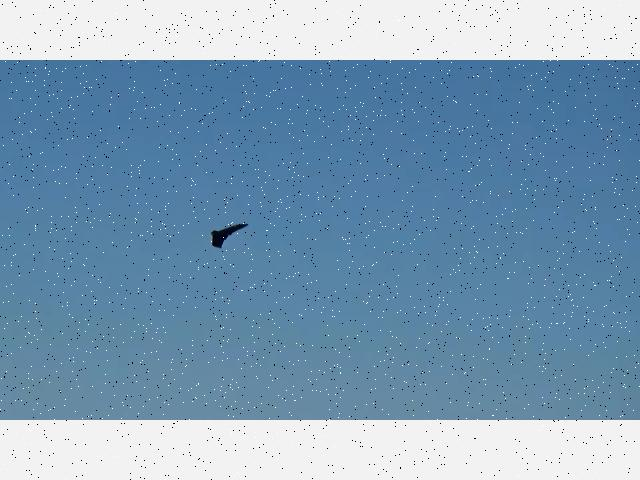Anti-Drone: (194, 213, 260, 255)
